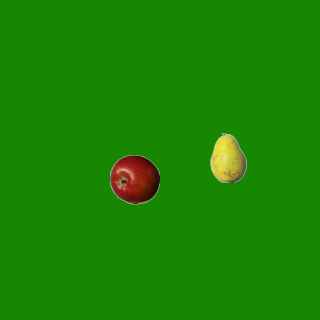Apple Braeburn: (109, 154, 159, 204)
Pear Monster: (203, 132, 253, 182)
